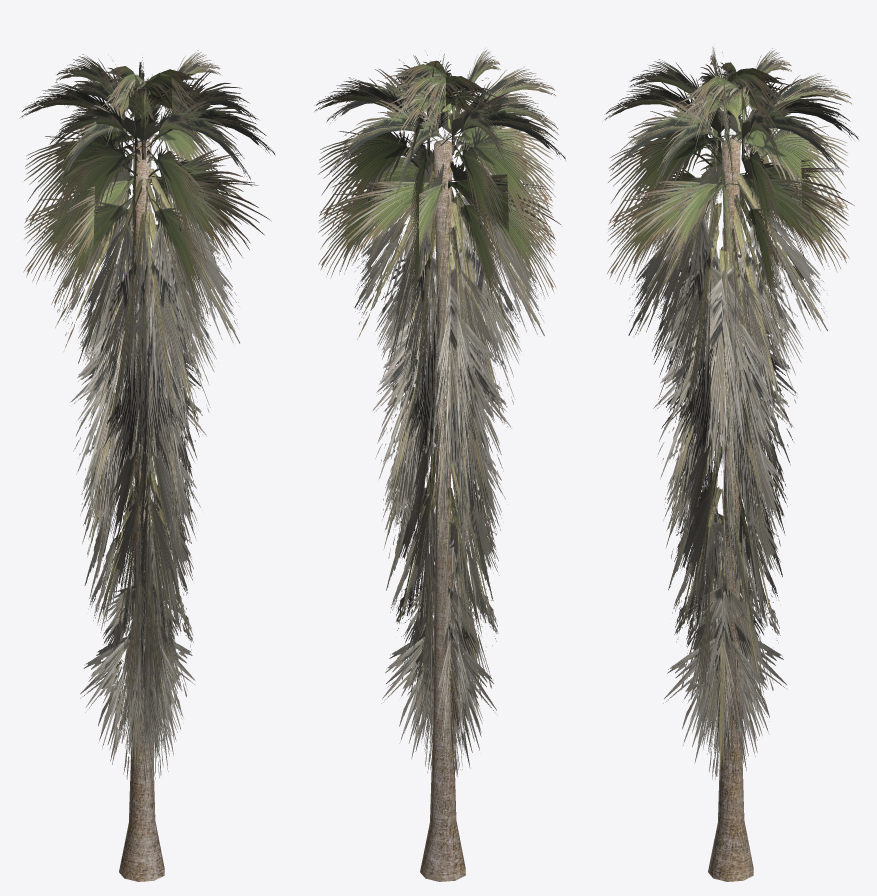
The model's file is S_Palm_2_3.fbx.
3 renders of one model, left to right at view 1: azimuth 30°, elevation 25°; view 2: azimuth 150°, elevation 25°; view 3: azimuth 270°, elevation 25°, orthographic.
Visible parts, largest first — view 1: Atlas_1, Atlas_0; view 2: Atlas_1, Atlas_0; view 3: Atlas_1, Atlas_0.
Part boxes in pixels (x1,y1,x2,y2): Atlas_1: [19, 50, 275, 785]; Atlas_0: [119, 140, 164, 881]; Atlas_1: [314, 48, 565, 782]; Atlas_0: [420, 139, 465, 881]; Atlas_1: [604, 46, 858, 782]; Atlas_0: [708, 138, 753, 881].
Bounding box in the file's own units: 280 × 938 × 280.
Materials: 1 (1 with a texture image).
